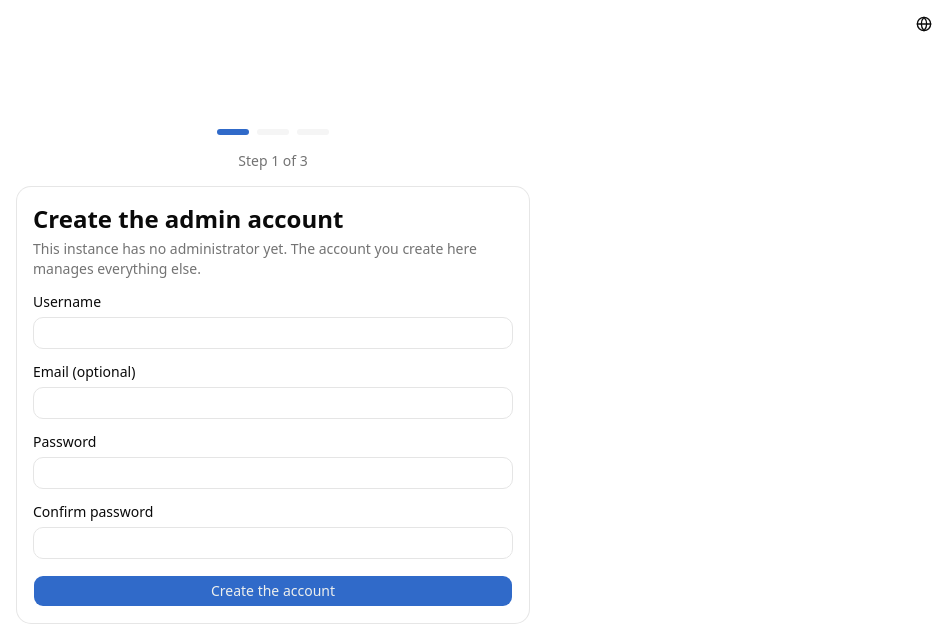
Test: creates the admin with the link token, then moves to the event step
In the field labelled "Username": [273, 333] box [33,317,513,349], type "root"
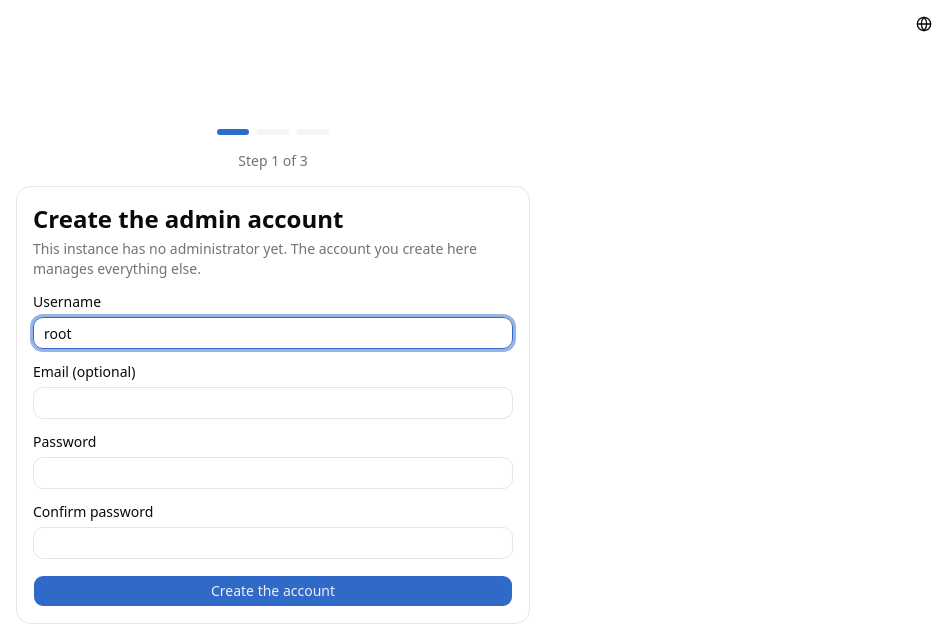
In the password field labelled "Password": [273, 473] box [33,457,513,489], type "strongpass"
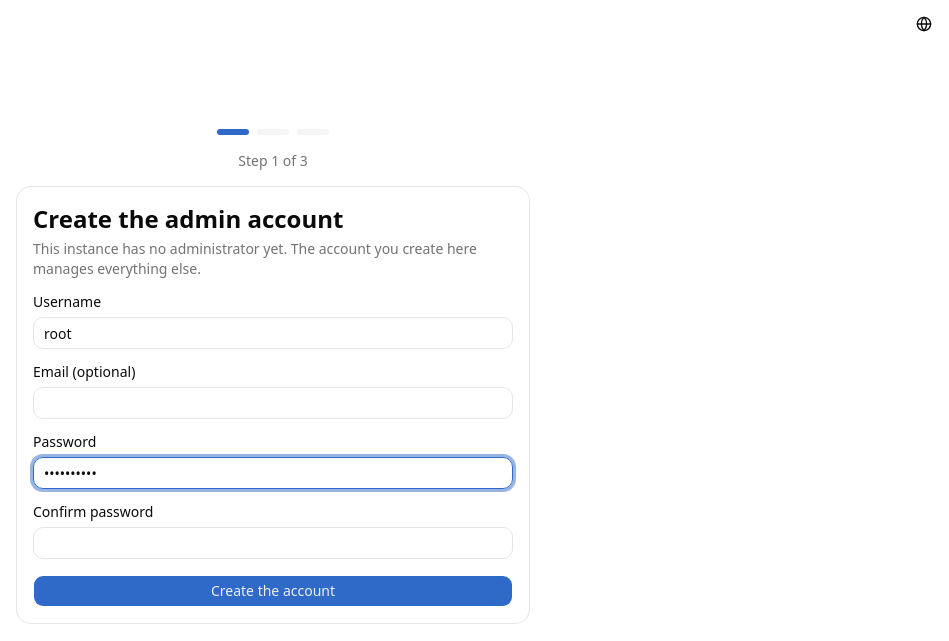
In the password field labelled "Confirm password": [273, 543] box [33,527,513,559], type "strongpass"
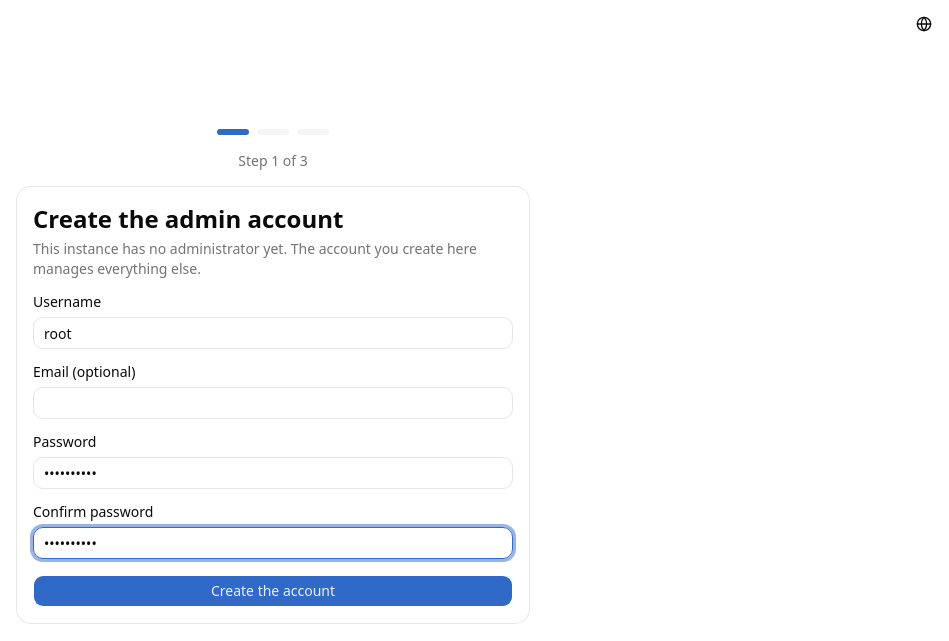
Click the button "Create the account": [273, 591] box [33,575,513,607]
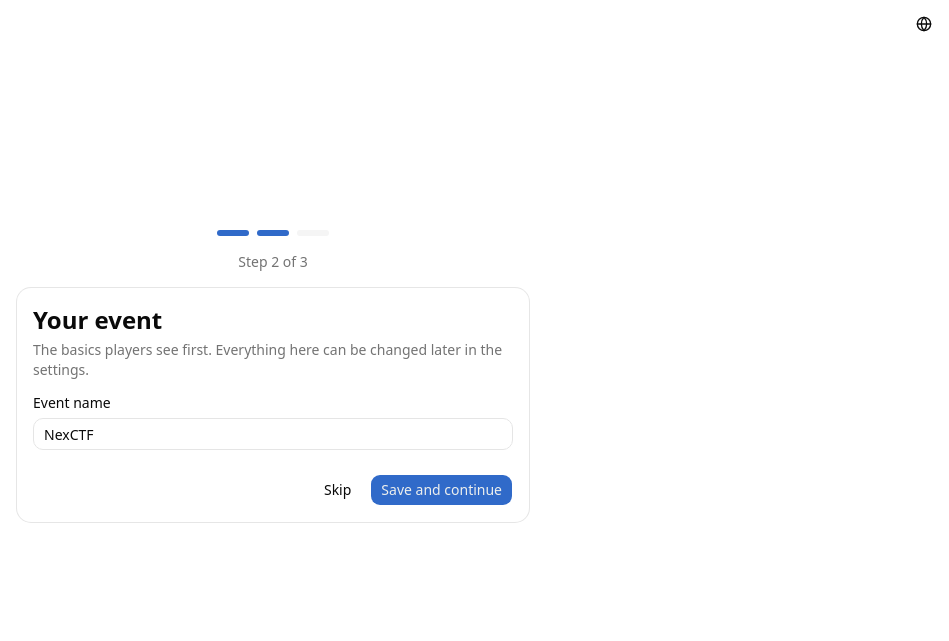
Expected: the text "Your event" is shown, [33,303,162,336]
